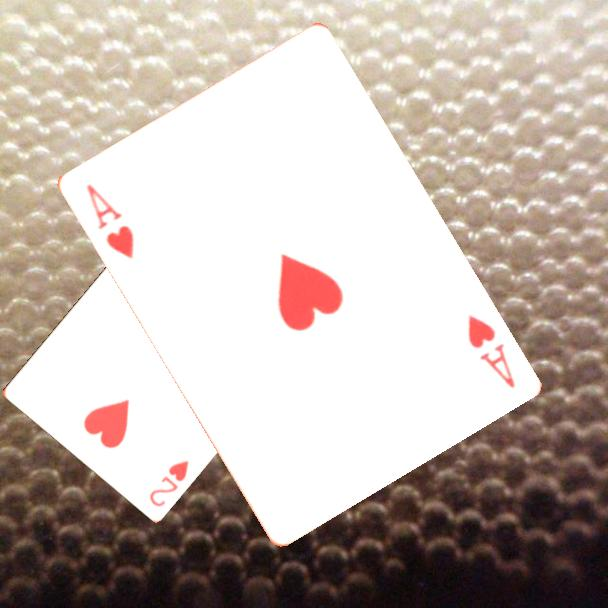h01: (81, 180, 136, 262), (463, 311, 518, 391)
h02: (146, 456, 192, 509)
